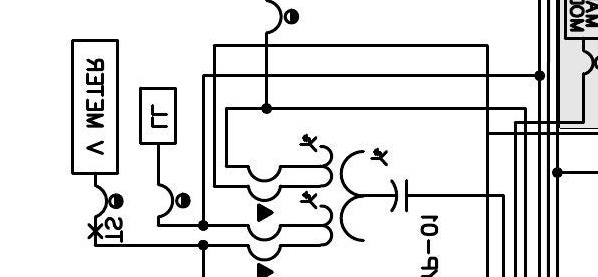LL: (138, 86, 178, 146)
v_m_digital: (70, 38, 120, 176)
